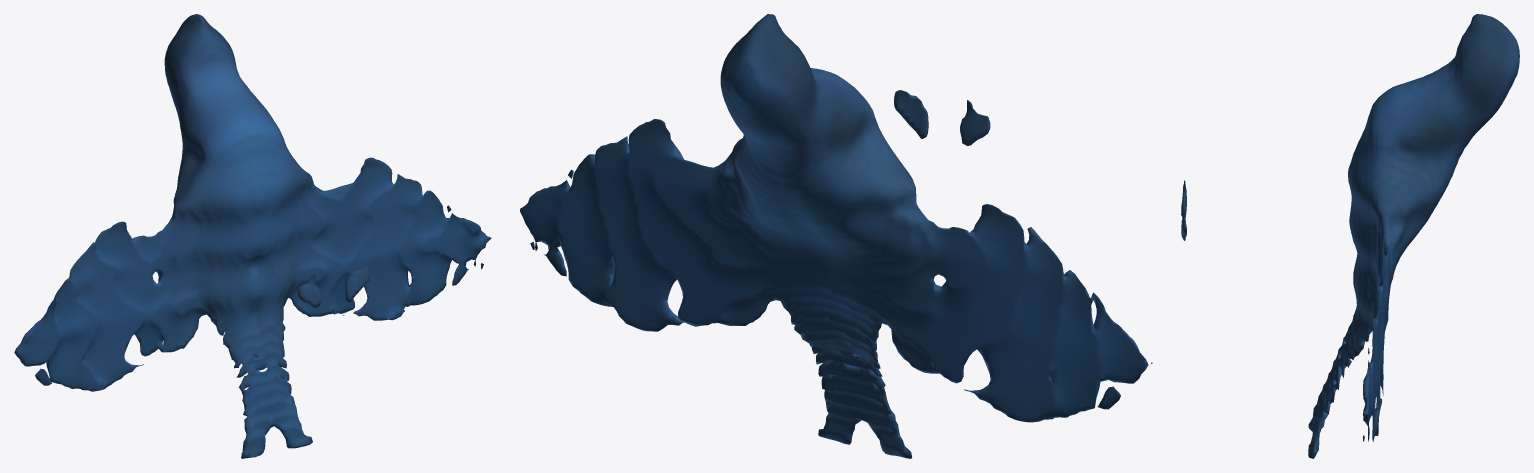
The picture shows the model from 3 angles, left to right: view 1: azimuth 30°, elevation 25°; view 2: azimuth 150°, elevation 25°; view 3: azimuth 270°, elevation 25°; orthographic projection. The views are drawn at different scales.
Visible parts, largest first — view 1: plyFile; view 2: plyFile; view 3: plyFile.
Boxes of the visible parts, x1=… form: plyFile: x1=14, y1=14, x2=491, y2=458; plyFile: x1=520, y1=14, x2=1152, y2=458; plyFile: x1=1181, y1=14, x2=1519, y2=458.
Size of the model in its own units: 192 by 147 by 106.
